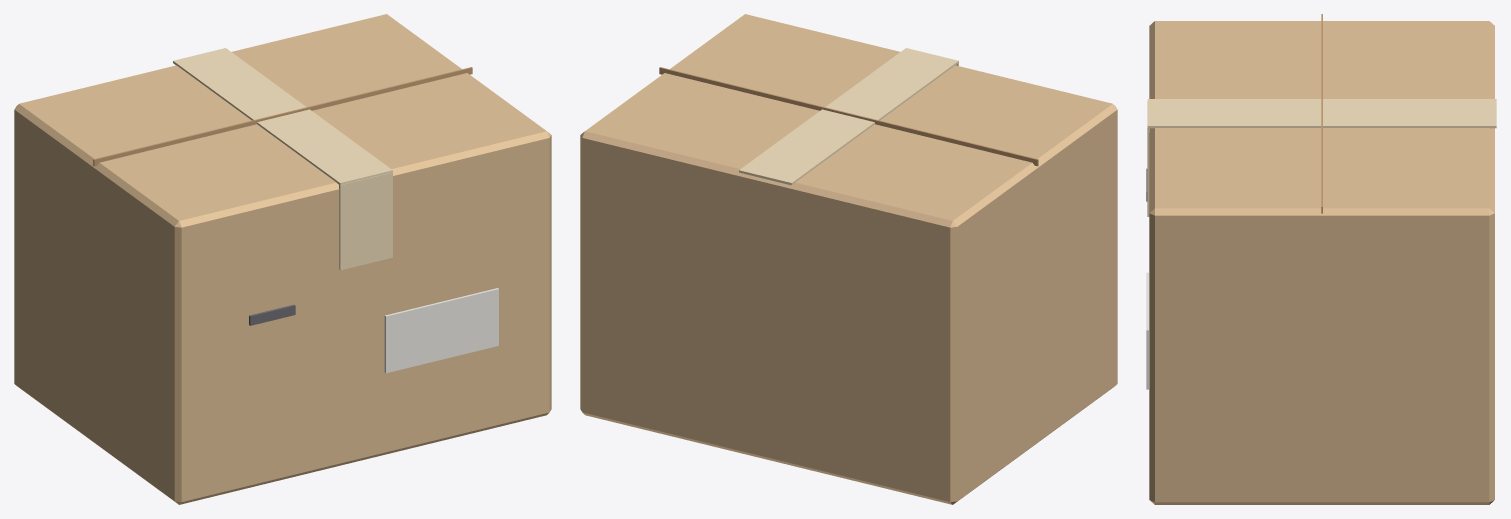
The model's file is prop_cardboard_box_02.glb.
3 renders of one model, left to right at view 1: azimuth 30°, elevation 25°; view 2: azimuth 150°, elevation 25°; view 3: azimuth 270°, elevation 25°, orthographic. The views are drawn at different scales.
Parts seen in each view (by area): view 1: prop_cardboard_box_02_body; view 2: prop_cardboard_box_02_body; view 3: prop_cardboard_box_02_body.
Part boxes in pixels (x1,y1,x2,y2): prop_cardboard_box_02_body: [14, 14, 551, 504]; prop_cardboard_box_02_body: [580, 14, 1117, 504]; prop_cardboard_box_02_body: [1146, 14, 1496, 504].
Bounding box in the file's own units: 0.502 × 0.3651 × 0.3855.
